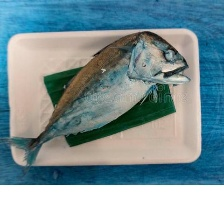foam_box: (3, 22, 206, 170)
